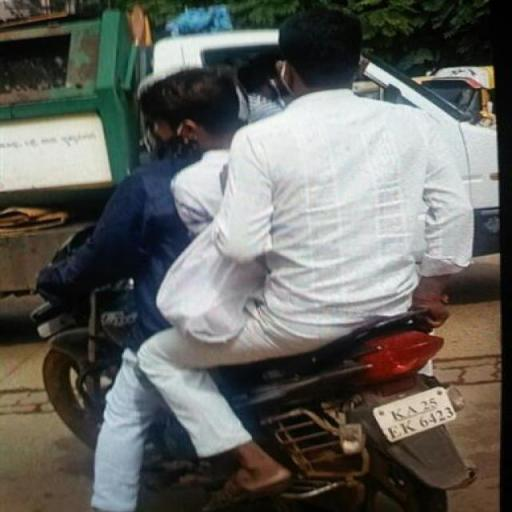tripple riding: (26, 3, 498, 325)
